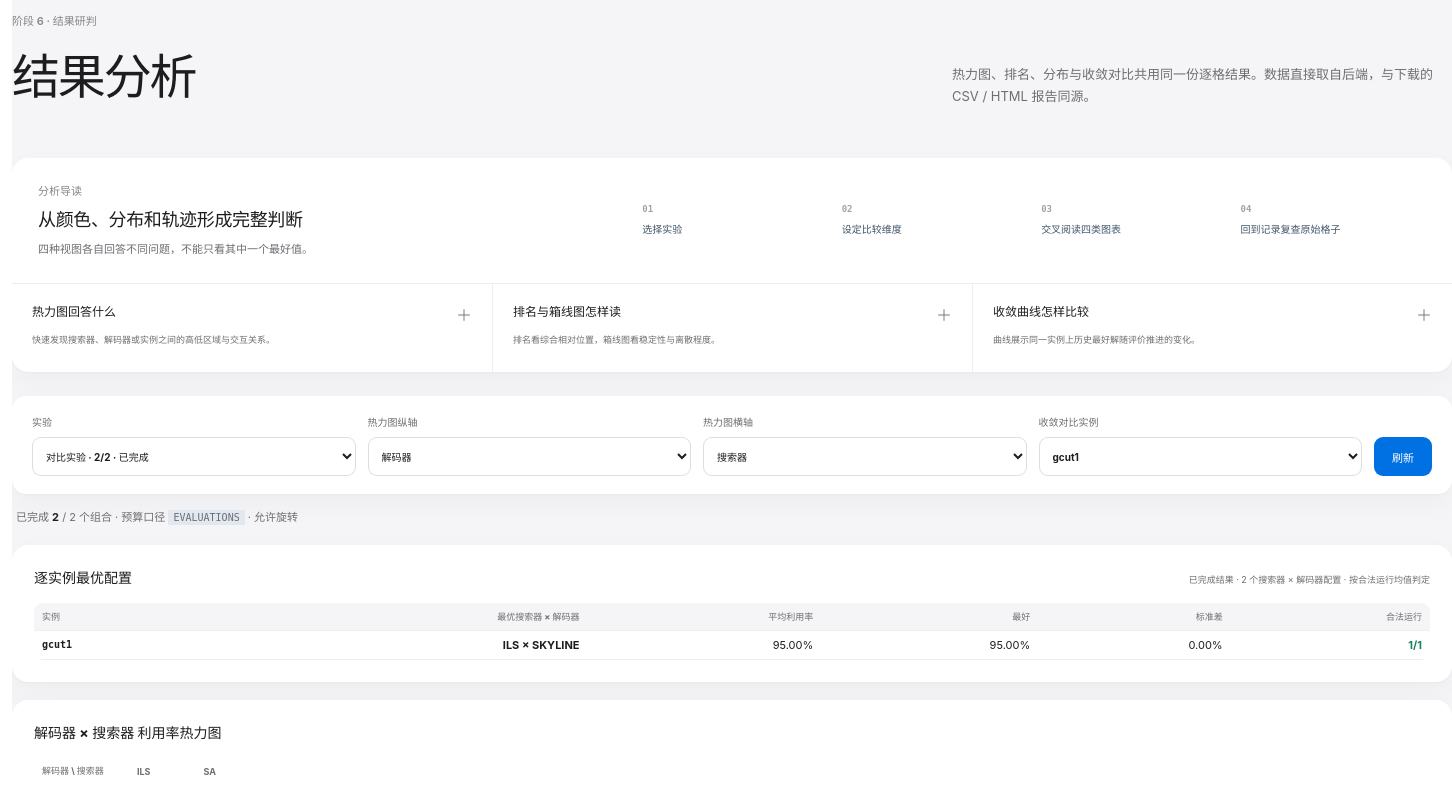
Test case: AnalysisView › 横纵轴不会落到同一维度，冲突选择会交换两轴
The image size is (1452, 786).
Note: 初始为纵轴解码器、横轴搜索器；把横轴选成解码器时，纵轴应换成原横轴搜索器。
Select "解码器" in the dropdown labelled "热力图横轴": coordinates (865, 457) [703,437,1026,476]
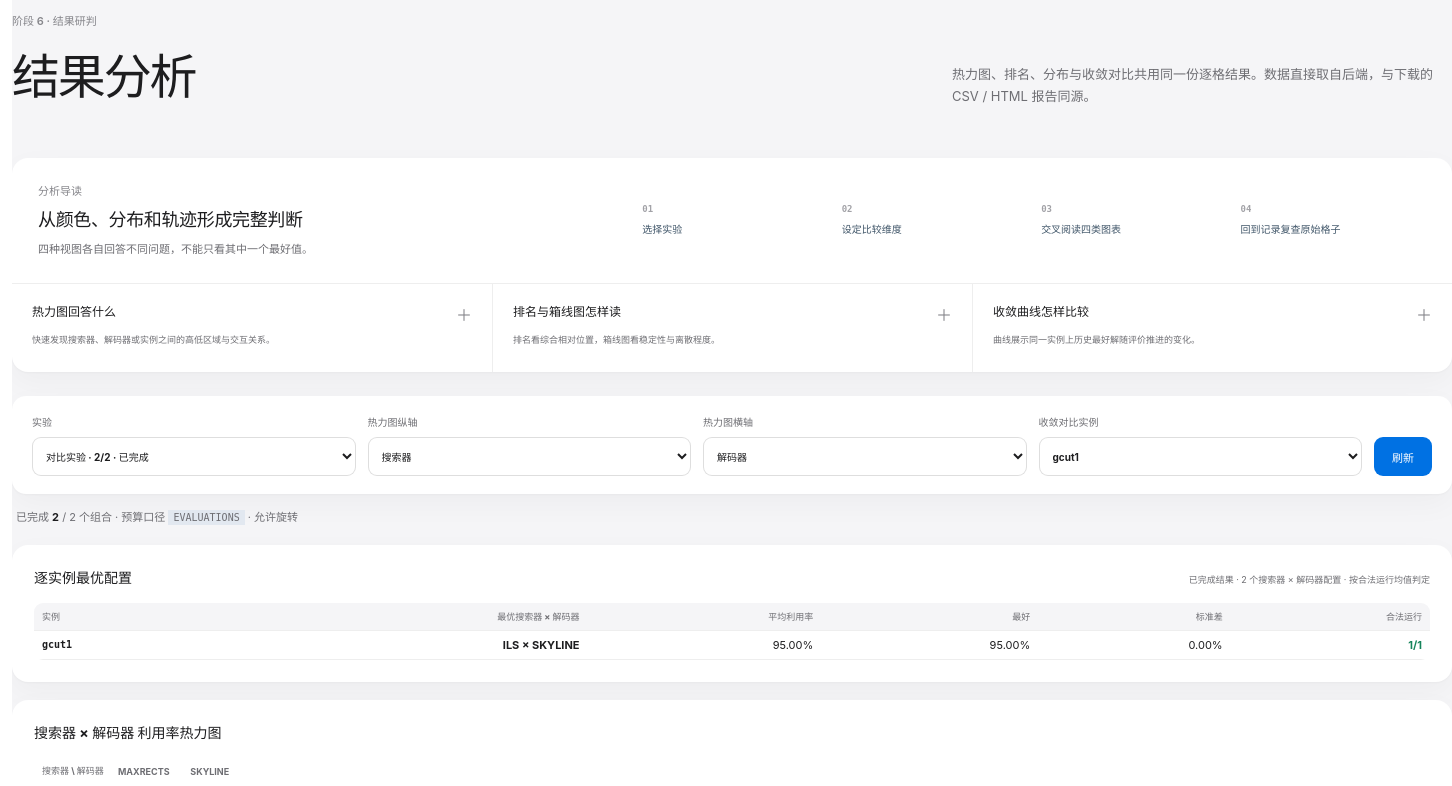
Result: the dropdown labelled "热力图纵轴" shows "搜索器" at [368,437,691,476]
